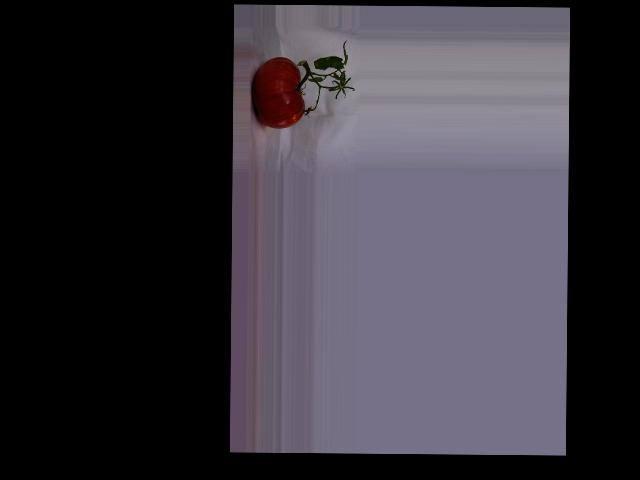tomato: (251, 56, 305, 129)
